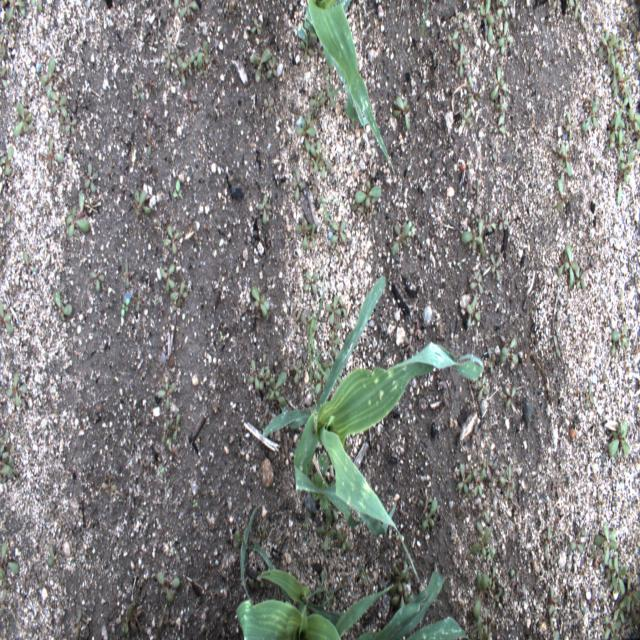crop: (270, 277, 485, 583), (294, 2, 391, 169), (236, 548, 392, 636), (356, 572, 470, 637), (232, 508, 257, 604)
weed: (597, 21, 638, 148), (595, 518, 638, 638), (290, 310, 331, 396), (41, 52, 80, 140), (162, 27, 214, 87), (605, 111, 637, 206), (288, 112, 332, 181), (456, 206, 509, 263), (312, 181, 350, 249), (469, 568, 504, 638), (245, 353, 287, 408), (466, 510, 498, 580), (554, 236, 594, 292), (468, 450, 501, 508), (486, 59, 508, 145), (0, 536, 22, 618), (484, 325, 523, 371), (156, 258, 188, 313), (352, 169, 383, 224), (118, 258, 144, 319), (323, 293, 348, 354), (553, 144, 575, 213), (386, 209, 415, 260), (40, 134, 72, 180), (489, 458, 517, 510), (387, 555, 413, 609), (444, 30, 472, 80), (64, 195, 93, 242), (247, 42, 279, 84), (307, 74, 341, 113), (472, 1, 498, 52), (602, 419, 634, 460), (458, 72, 479, 134), (35, 538, 59, 592), (386, 86, 414, 131), (160, 408, 184, 458), (0, 1, 46, 27), (292, 210, 319, 254), (243, 279, 274, 316), (156, 218, 182, 262), (540, 518, 562, 570), (608, 316, 630, 367), (5, 370, 32, 410), (418, 479, 438, 533), (143, 106, 162, 162), (11, 99, 34, 145), (254, 182, 276, 230), (567, 512, 588, 562), (154, 570, 183, 606), (545, 583, 564, 637), (1, 425, 18, 485), (166, 0, 204, 26), (81, 154, 100, 205), (462, 294, 485, 336), (130, 182, 154, 220), (118, 599, 142, 637), (288, 161, 308, 206), (414, 0, 432, 50), (127, 80, 153, 114), (49, 288, 75, 322), (448, 6, 474, 40), (154, 373, 178, 409), (498, 3, 514, 54), (580, 94, 600, 134), (314, 522, 334, 560), (0, 26, 11, 94), (300, 265, 320, 302), (165, 170, 185, 206), (20, 248, 40, 284), (557, 105, 575, 144), (452, 460, 472, 495), (470, 371, 491, 404), (1, 144, 16, 190), (337, 522, 356, 558), (465, 268, 488, 297), (500, 380, 520, 412), (98, 472, 122, 498), (90, 265, 108, 299), (466, 168, 484, 202), (485, 251, 505, 281), (70, 604, 88, 637), (550, 0, 582, 18), (247, 13, 266, 42), (550, 325, 564, 364), (261, 88, 278, 120), (508, 561, 524, 595), (43, 496, 61, 526), (548, 471, 564, 503), (2, 300, 16, 336), (256, 513, 274, 541), (581, 382, 597, 413), (4, 196, 17, 234), (257, 406, 271, 435), (215, 321, 229, 348), (185, 88, 199, 113), (266, 226, 278, 252), (218, 371, 234, 389), (156, 462, 168, 482)
